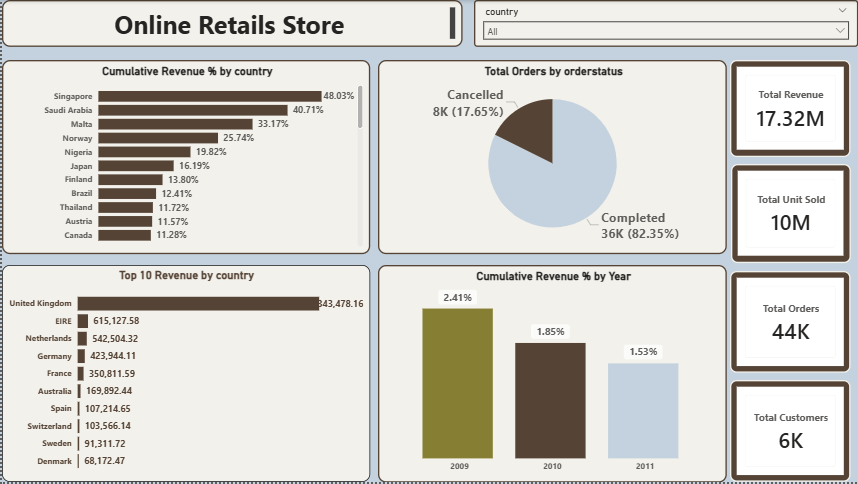

The page's visual inventory and layout, read from the dashboard file:
{"tool":"powerbi","page":{"name":"GEOGRAPHY ANALYSIS","canvas":[1280,720],"ordinal":3},"visuals":[{"type":"cardVisual","fields":{"Data":["customers.Total Revenue"]},"box":[1087.3,89.3,180,144.9],"z":0},{"type":"cardVisual","fields":{"Data":["orders.Total Orders"]},"box":[1087.3,405.4,180,152.2],"z":1000},{"type":"cardVisual","fields":{"Data":["customers.Total Customers"]},"box":[1087.3,567.8,180,152.2],"z":2000},{"type":"cardVisual","fields":{"Data":["orderdetails.Total Unit Sold"]},"box":[1088.8,244.4,178.5,147.8],"z":3000},{"type":"textbox","box":[0,0,687.8,70.2],"z":4000},{"type":"barChart","fields":{"Category":["customers.country"],"Y":["products.Cumulative Revenue %"]},"box":[0,89.3,550.2,289.8],"z":5000},{"type":"pieChart","fields":{"Category":["orders.orderstatus"],"Y":["orders.Total Orders"]},"box":[561.7,89.6,521.3,289.8],"z":6000},{"type":"slicer","fields":{"Values":["customers.country"]},"box":[705.4,0,573.7,70.2],"z":7000},{"type":"lineClusteredColumnComboChart","fields":{"Category":["DateTable.Year"],"Y":["products.Cumulative Revenue %"]},"box":[562,395.1,521,324.9],"z":8000},{"type":"clusteredBarChart","title":"Top 10 Revenue by country","fields":{"Y":["customers.Total Revenue"],"Category":["customers.country"]},"box":[0,395.9,549.7,324.1],"z":9000}]}

Visuals, with their boxes in screenshot pixels (x1, y1, x2, y2), scaled from the page's 1280x720 canvas onto the 858x484 screenshot:
cardVisual - customers.Total Revenue: [left=729, top=60, right=849, bottom=157]
cardVisual - orders.Total Orders: [left=729, top=273, right=849, bottom=375]
cardVisual - customers.Total Customers: [left=729, top=382, right=849, bottom=483]
cardVisual - orderdetails.Total Unit Sold: [left=730, top=164, right=849, bottom=264]
textbox: [left=0, top=0, right=461, bottom=47]
barChart - customers.country x products.Cumulative Revenue %: [left=0, top=60, right=369, bottom=255]
pieChart - orders.orderstatus x orders.Total Orders: [left=377, top=60, right=726, bottom=255]
slicer - customers.country: [left=473, top=0, right=857, bottom=47]
lineClusteredColumnComboChart - DateTable.Year x products.Cumulative Revenue %: [left=377, top=266, right=726, bottom=483]
"Top 10 Revenue by country" clusteredBarChart: [left=0, top=266, right=368, bottom=483]
